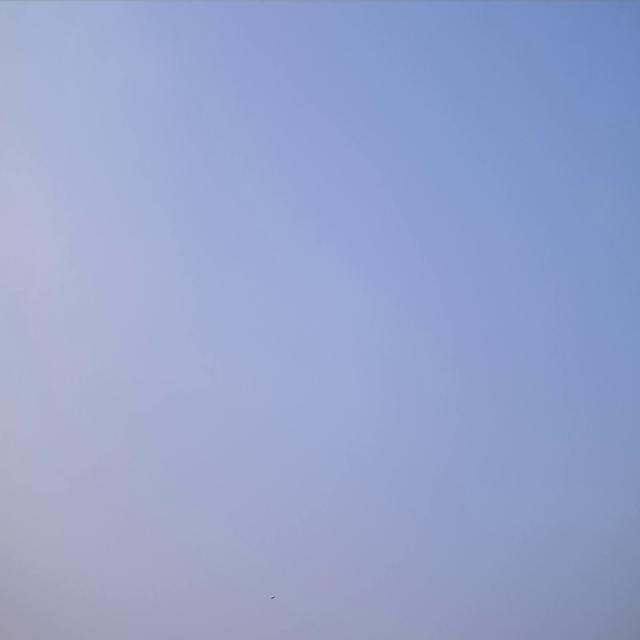UAV: (270, 595, 275, 600)
